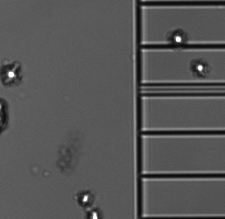Living Cell: (2, 64, 20, 84), (169, 29, 188, 47), (192, 59, 210, 77), (77, 191, 96, 207)
